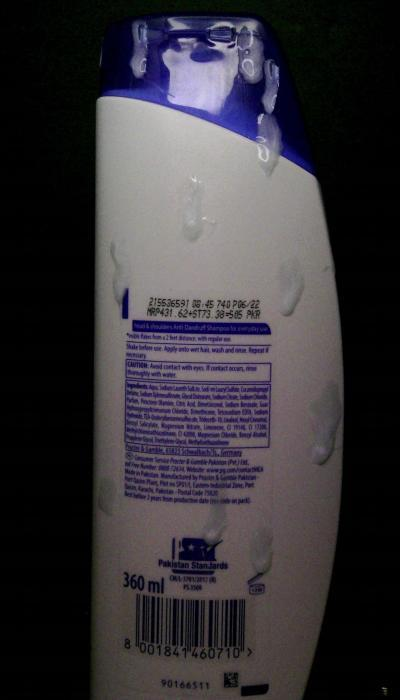pob_unacc: (247, 54, 296, 188), (179, 156, 227, 250), (308, 377, 350, 464), (104, 231, 140, 308), (125, 13, 166, 78), (249, 516, 284, 580), (277, 265, 317, 315), (233, 27, 270, 79), (97, 472, 125, 520), (216, 483, 237, 531)
